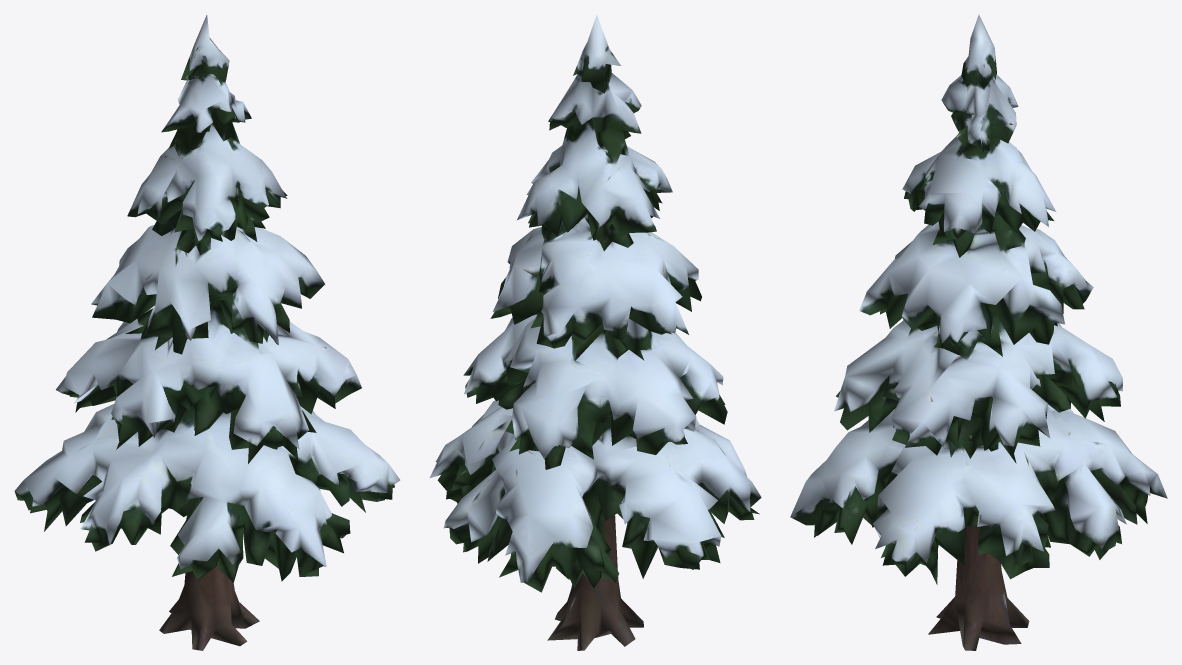
The model's file is pine_b.glb.
3 renders of one model, left to right at view 1: azimuth 30°, elevation 25°; view 2: azimuth 150°, elevation 25°; view 3: azimuth 270°, elevation 25°, orthographic.
Visible parts, largest first — view 1: tripo_node_a7f8471c-3b79-4e59-9249-dff970389e6b; view 2: tripo_node_a7f8471c-3b79-4e59-9249-dff970389e6b; view 3: tripo_node_a7f8471c-3b79-4e59-9249-dff970389e6b.
Boxes of the visible parts, box(x1,y1,x2,y2) form: tripo_node_a7f8471c-3b79-4e59-9249-dff970389e6b: box(14, 15, 400, 650); tripo_node_a7f8471c-3b79-4e59-9249-dff970389e6b: box(429, 14, 761, 650); tripo_node_a7f8471c-3b79-4e59-9249-dff970389e6b: box(790, 14, 1167, 650).
Size of the model in its own units: 0.5119 by 0.9999 by 0.555.
Materials: 1 (1 with a texture image).
